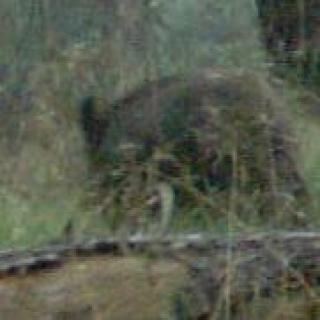Pig: (49, 26, 320, 199)
